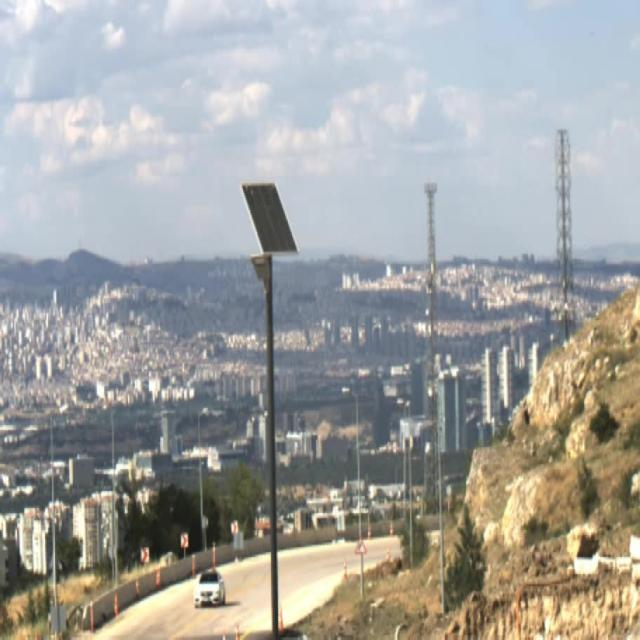Car: (193, 568, 227, 608)
